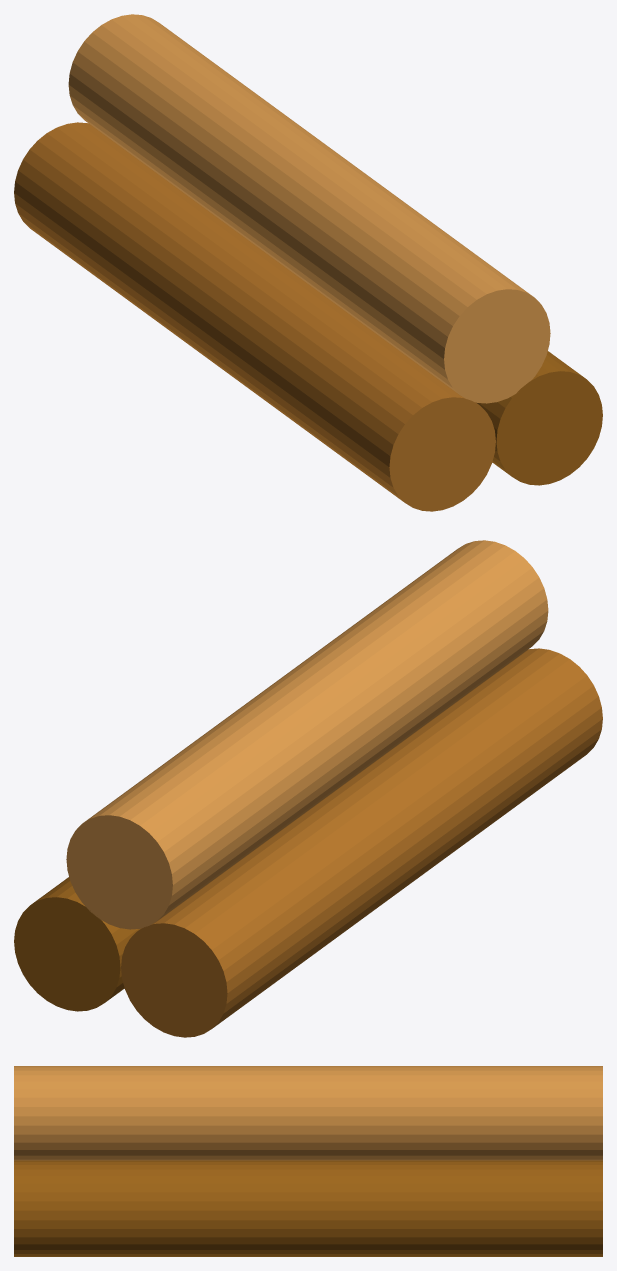
Rendered from timber.fbx.
3 renders of one model, top to bottom at view 1: azimuth 30°, elevation 25°; view 2: azimuth 150°, elevation 25°; view 3: azimuth 270°, elevation 25°, orthographic. The views are drawn at different scales.
Visible parts, largest first — view 1: timber_timber3, timber_timber1, timber_timber2; view 2: timber_timber3, timber_timber1, timber_timber2; view 3: timber_timber2, timber_timber3.
Part boxes in pixels (x1,y1,x2,y2): timber_timber3: (68, 14, 550, 403); timber_timber1: (14, 122, 495, 511); timber_timber2: (476, 351, 602, 485); timber_timber3: (66, 540, 548, 929); timber_timber1: (121, 648, 602, 1037); timber_timber2: (14, 877, 140, 1011); timber_timber2: (14, 1160, 602, 1256); timber_timber3: (14, 1066, 602, 1160).
Size of the model in its own units: 176 by 163 by 537.
